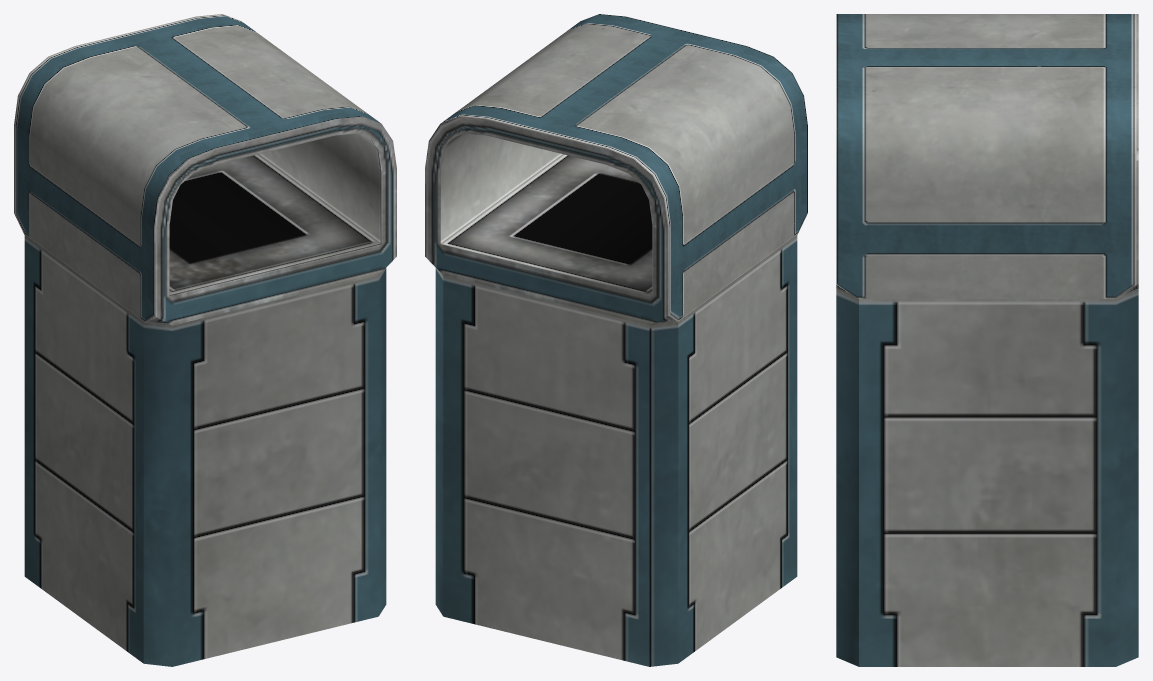
The model's file is Obj_Trashcan.FBX.
3 views of the same model, side by side, from view 1: azimuth 30°, elevation 25°; view 2: azimuth 150°, elevation 25°; view 3: azimuth 270°, elevation 25° (orthographic). The views are drawn at different scales.
Parts seen in each view (by area): view 1: TrashCan; view 2: TrashCan; view 3: TrashCan.
Part boxes in pixels (x1,y1,x2,y2): TrashCan: (14,14,396,666); TrashCan: (425,14,807,666); TrashCan: (836,14,1138,666).
Bounding box in the file's own units: 1 × 2 × 1.
